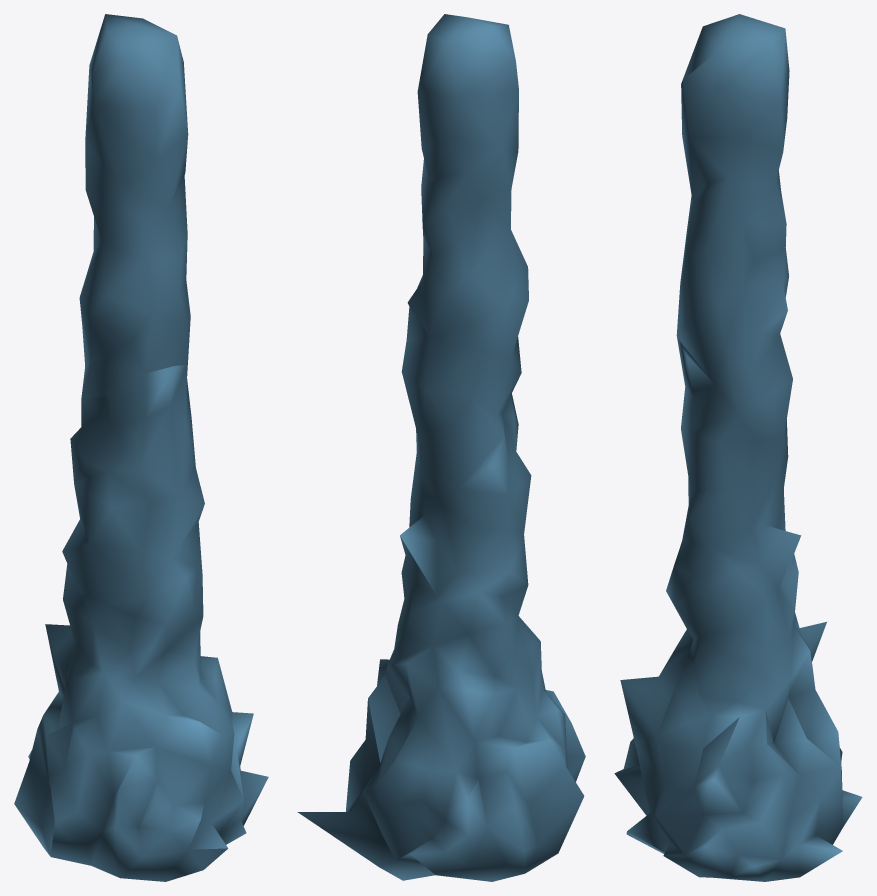
File: hvs_crystal_large01_lod1.fbx
The picture shows the model from 3 angles, left to right: view 1: azimuth 30°, elevation 25°; view 2: azimuth 150°, elevation 25°; view 3: azimuth 270°, elevation 25°; orthographic projection.
Visible parts, largest first — view 1: hvs_crystal_large01.007; view 2: hvs_crystal_large01.007; view 3: hvs_crystal_large01.007.
Part boxes in pixels (x1,y1,x2,y2): hvs_crystal_large01.007: (14,14,268,881); hvs_crystal_large01.007: (297,14,585,881); hvs_crystal_large01.007: (614,14,862,881).
Size of the model in its own units: 10.97 by 41 by 10.98.
